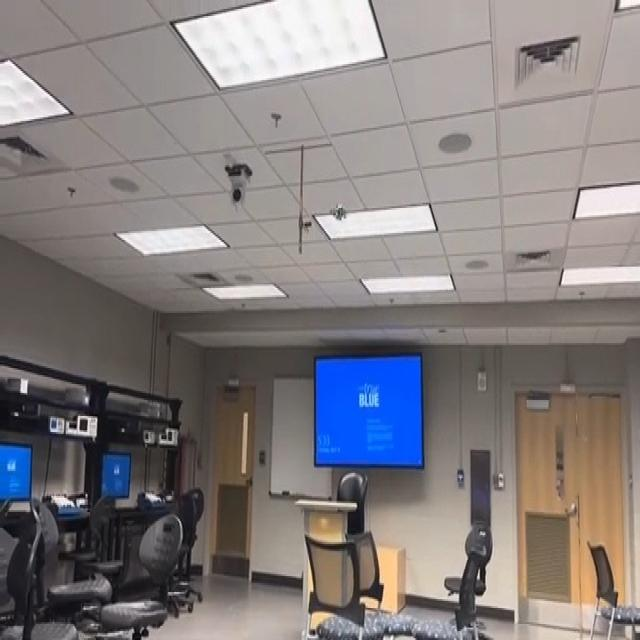drone: (319, 191, 352, 235)
